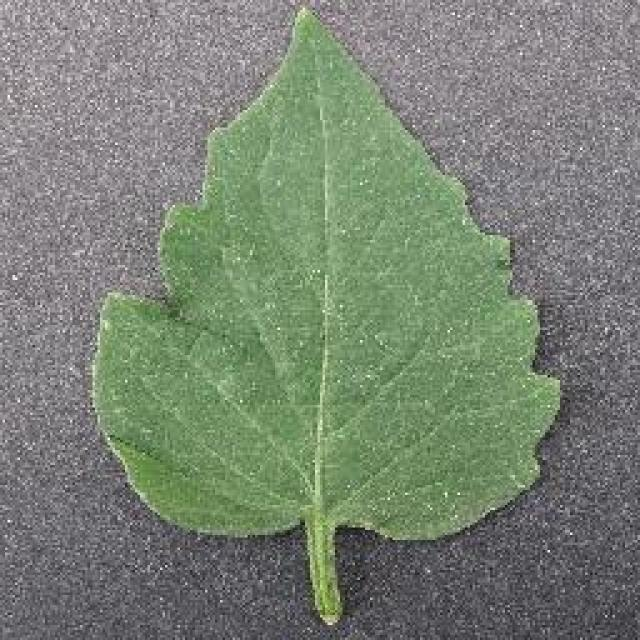Tomato healthy leaf: (92, 11, 562, 606)
